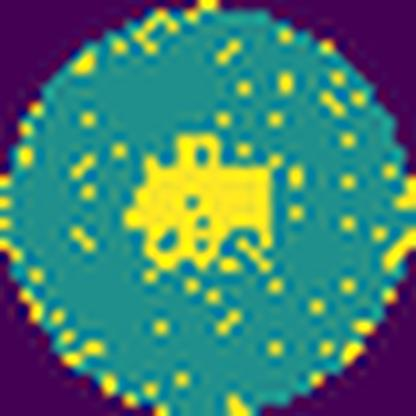Center: (125, 131, 274, 270)
